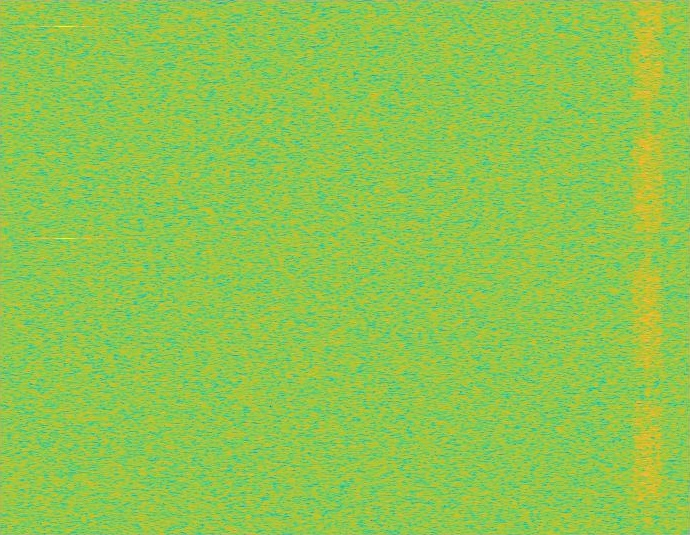5G: (631, 0, 665, 534)
DSSS: (646, 0, 650, 534)
Radar: (59, 0, 72, 534)
